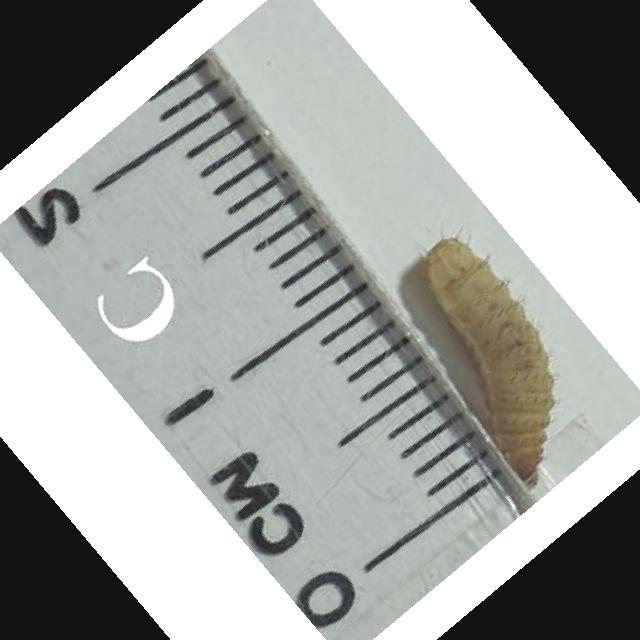Maggot: (420, 236, 548, 487)
